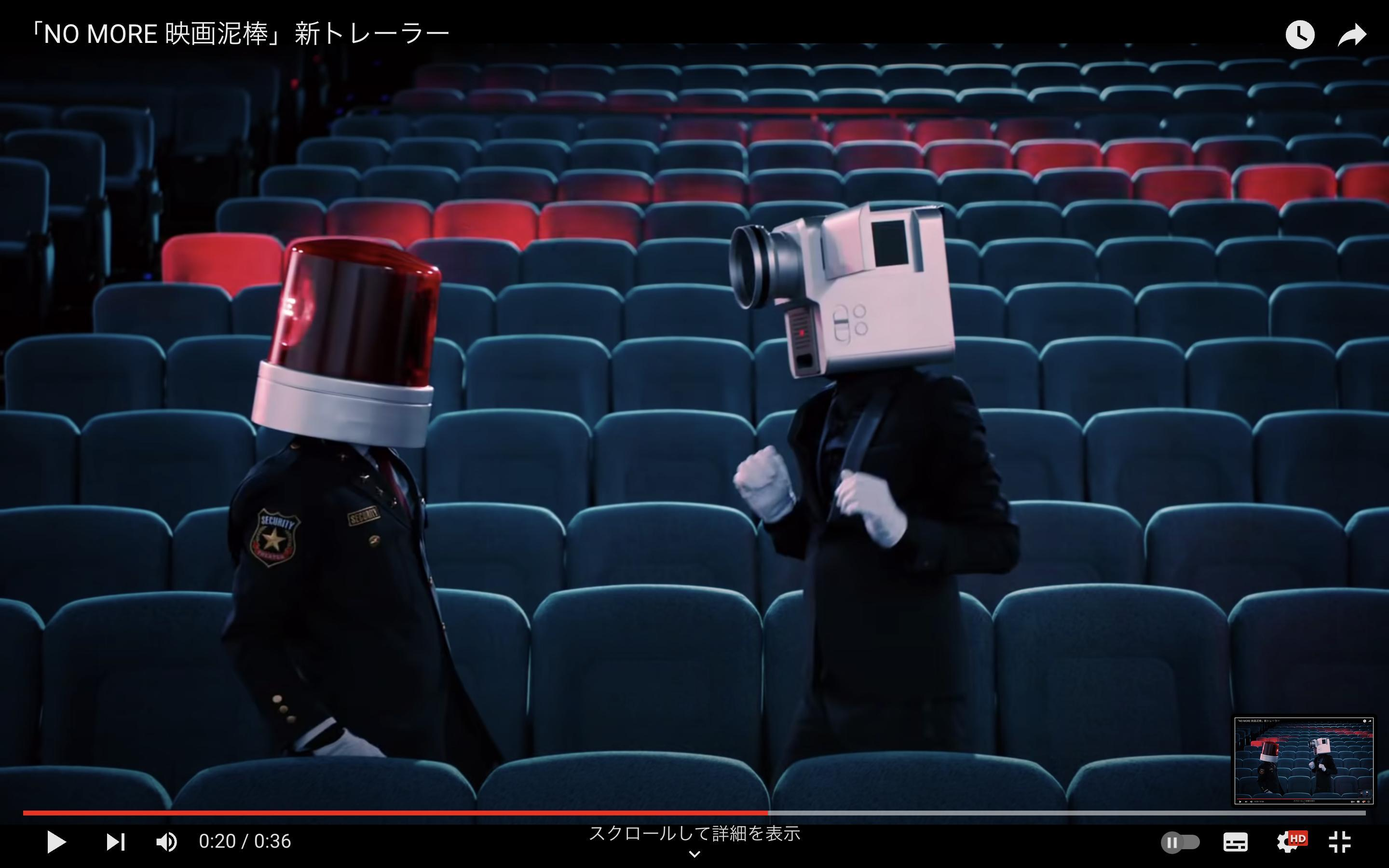no more kid: (723, 205, 961, 381)
